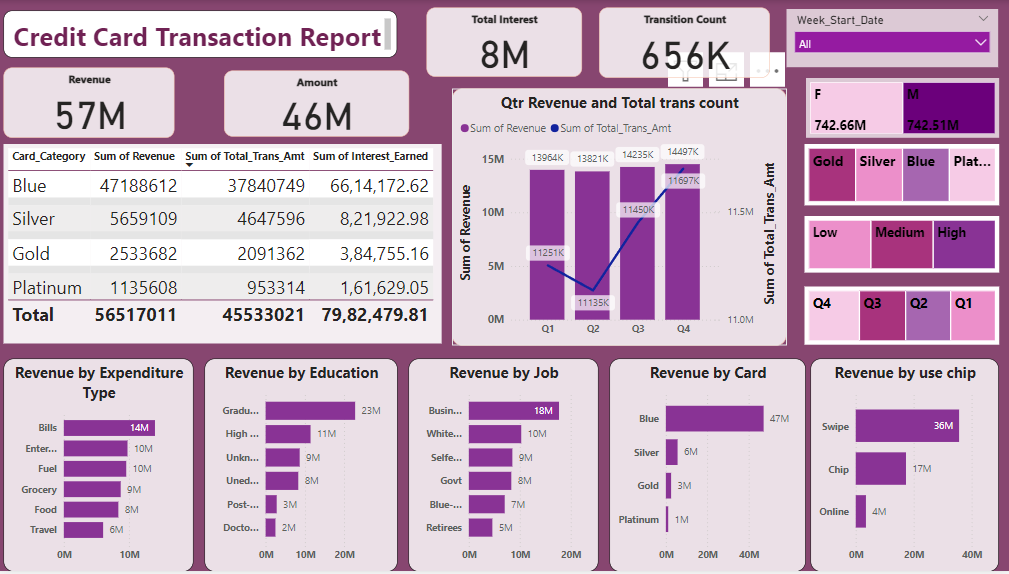

The dashboard page shown, as its layout file describes it:
{"tool":"powerbi","page":{"name":"CC Transaction","canvas":[1280,720],"ordinal":0},"visuals":[{"type":"textbox","box":[9.9,13.8,496.3,59.3],"z":0},{"type":"lineStackedColumnComboChart","title":"Qtr Revenue and Total trans count","fields":{"Category":["Credit Card.Qtr"],"Y":["Sum(Credit Card.Revenue)"],"Y2":["Sum(Credit Card.Total_Trans_Amt)"]},"box":[575.4,110.7,421.2,324.3],"z":1000},{"type":"barChart","title":"Revenue by Expenditure Type","fields":{"Y":["Sum(Credit Card.Revenue)"],"Category":["Credit Card.Exp Type"]},"box":[9.9,450.8,239.3,268.9],"z":2000},{"type":"barChart","title":" Revenue by Education ","fields":{"Y":["Sum(Credit Card.Revenue)"],"Category":["Customer.Education_Level"]},"box":[263,450.8,243.2,268.9],"z":3000},{"type":"barChart","title":" Revenue by Job","fields":{"Y":["Sum(Credit Card.Revenue)"],"Category":["Customer.Customer_Job"]},"box":[520,450.8,239.3,268.9],"z":4000},{"type":"barChart","title":" Revenue by Card","fields":{"Y":["Sum(Credit Card.Revenue)"],"Category":["Credit Card.Card_Category"]},"box":[773.1,450.8,247.2,268.9],"z":5000},{"type":"barChart","title":" Revenue by use chip","fields":{"Y":["Sum(Credit Card.Revenue)"],"Category":["Credit Card.Use Chip"]},"box":[1026.2,450.8,237.3,268.9],"z":6000},{"type":"tableEx","fields":{"Values":["Credit Card.Card_Category","Sum(Credit Card.Revenue)","Sum(Credit Card.Total_Trans_Amt)","Sum(Credit Card.Interest_Earned)"]},"box":[9.9,181.9,551.7,251.1],"z":7000},{"type":"card","title":"Revenue","fields":{"Values":["Sum(Credit Card.Revenue)"]},"box":[9.9,85,215.5,89],"z":8000},{"type":"card","title":"Amount","fields":{"Values":["Sum(Credit Card.Total_Trans_Amt)"]},"box":[286.7,89,233.3,83],"z":9000},{"type":"card","title":"Total Interest","fields":{"Values":["Sum(Credit Card.Interest_Earned)"]},"box":[541.8,9.9,195.8,87],"z":10000},{"type":"card","title":"Transition Count","fields":{"Values":["Sum(Credit Card.Total_Trans_Vol)"]},"box":[759.3,9.9,215.5,89],"z":11000},{"type":"slicer","fields":{"Values":["Credit Card.Week_Start_Date"]},"box":[996.6,11.9,266.9,73.2],"z":12000},{"type":"treemap","fields":{"Group":["Credit Card.Qtr"],"Values":["Avg(Credit Card.ï»¿Client_Num)"]},"box":[1018.3,361.9,245.2,73.2],"z":13000},{"type":"treemap","fields":{"Values":["Avg(Credit Card.ï»¿Client_Num)"],"Group":["Customer.Gender"]},"box":[1020.3,98.9,243.2,75.1],"z":14000},{"type":"treemap","fields":{"Values":["Avg(Credit Card.ï»¿Client_Num)"],"Group":["Credit Card.Card_Category"]},"box":[1018.3,181.9,245.2,77.1],"z":15000},{"type":"treemap","fields":{"Values":["Avg(Credit Card.ï»¿Client_Num)"],"Group":["Customer.Income_group"]},"box":[1018.3,272.9,245.2,71.2],"z":16000}]}

Visuals, with their boxes in screenshot pixels (x1, y1, x2, y2), scaled from the page's 1280x720 canvas onto the 1009x574 screenshot:
textbox: select_region(8, 11, 399, 58)
"Qtr Revenue and Total trans count" lineStackedColumnComboChart: select_region(454, 88, 786, 347)
"Revenue by Expenditure Type" barChart: select_region(8, 359, 196, 573)
" Revenue by Education " barChart: select_region(207, 359, 399, 573)
" Revenue by Job" barChart: select_region(410, 359, 599, 573)
" Revenue by Card" barChart: select_region(609, 359, 804, 573)
" Revenue by use chip" barChart: select_region(809, 359, 996, 573)
tableEx - Credit Card.Card_Category x Sum(Credit Card.Revenue): select_region(8, 145, 443, 345)
"Revenue" card: select_region(8, 68, 178, 139)
"Amount" card: select_region(226, 71, 410, 137)
"Total Interest" card: select_region(427, 8, 581, 77)
"Transition Count" card: select_region(599, 8, 768, 79)
slicer - Credit Card.Week_Start_Date: select_region(786, 9, 996, 68)
treemap - Credit Card.Qtr x Avg(Credit Card.ï»¿Client_Num): select_region(803, 289, 996, 347)
treemap - Avg(Credit Card.ï»¿Client_Num) x Customer.Gender: select_region(804, 79, 996, 139)
treemap - Avg(Credit Card.ï»¿Client_Num) x Credit Card.Card_Category: select_region(803, 145, 996, 206)
treemap - Avg(Credit Card.ï»¿Client_Num) x Customer.Income_group: select_region(803, 218, 996, 274)
